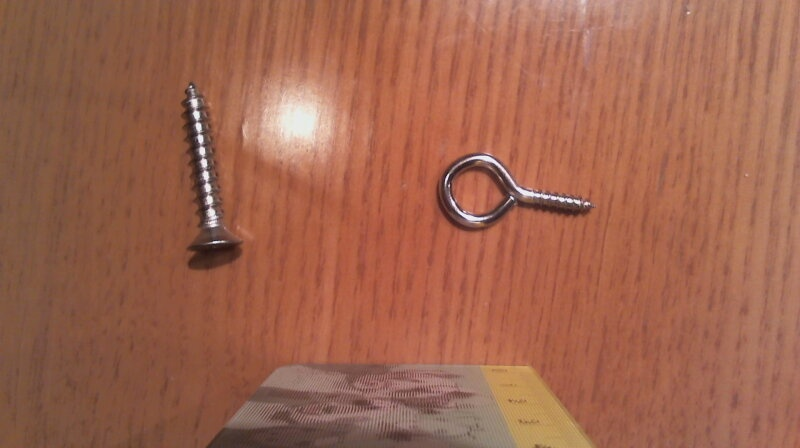O001: (433, 149, 597, 233)
S001: (175, 80, 246, 259)
